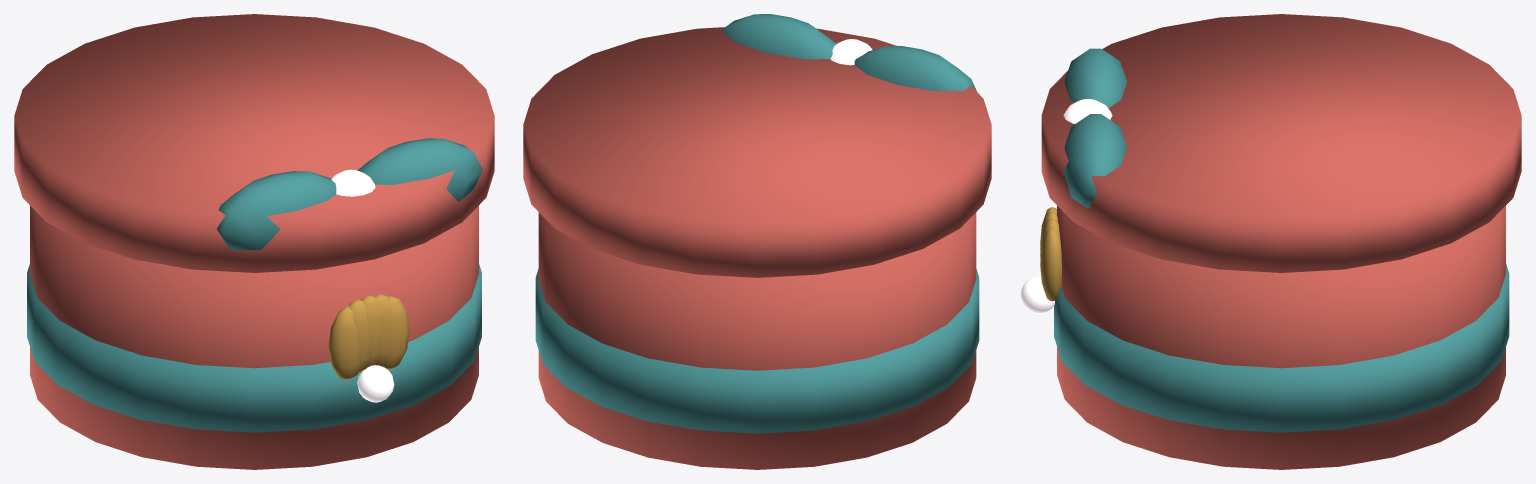
The model's file is opera_detective_box_4.glb.
3 views of the same model, side by side, from view 1: azimuth 30°, elevation 25°; view 2: azimuth 150°, elevation 25°; view 3: azimuth 270°, elevation 25° (orthographic). The views are drawn at different scales.
Visible parts, largest first — view 1: LidTop.004, VisualMesh.004, Bow, Bow.001, Knot; view 2: LidTop.004, VisualMesh.004, Bow, Bow.001, Knot; view 3: LidTop.004, VisualMesh.004, Bow.001, Bow, Knot.
Part boxes in pixels (x1,y1,x2,y2): LidTop.004: [14, 14, 494, 272]; VisualMesh.004: [27, 206, 481, 469]; Bow: [216, 171, 336, 250]; Bow.001: [357, 138, 482, 201]; Knot: [331, 169, 375, 196]; LidTop.004: [523, 27, 991, 277]; VisualMesh.004: [535, 212, 979, 469]; Bow: [854, 46, 976, 91]; Bow.001: [722, 14, 836, 59]; Knot: [830, 39, 872, 65]; LidTop.004: [1041, 14, 1521, 272]; VisualMesh.004: [1020, 205, 1509, 469]; Bow.001: [1063, 114, 1126, 207]; Bow: [1064, 48, 1126, 108]; Knot: [1063, 99, 1112, 123].
Size of the model in its own units: 3.1 by 2.02 by 3.24.
